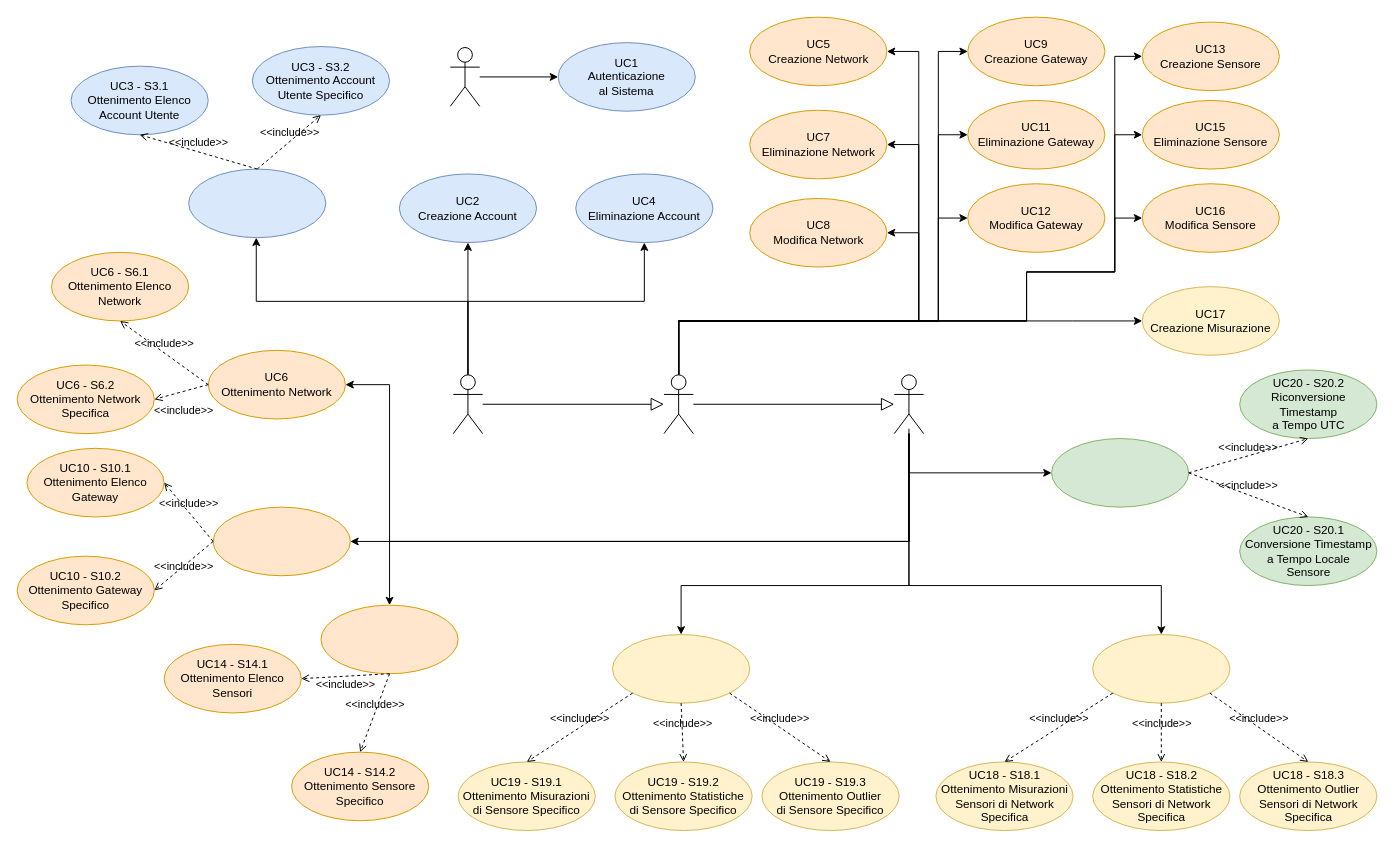
This 1395x856 diagram has some shape labels left out. Each missing label, with the centre of its shape:
Admin: the point at 467,404
Operator: the point at 678,404
UC10 Ottenimento Gateway: the point at 281,541
UC14 Ottenimento Sensore: the point at 389,639
UC18 Ottenimento Dati Sensori di Network Specifica: the point at 1161,668
UC19 Ottenimento Dati di Sensore Specifico: the point at 681,668
UC20 Conversione Timestamp: the point at 1120,472
UC3 Ottenimento Account Utente: the point at 257,203
UtenteNonLoggato: the point at 464,76
Viewer: the point at 908,404
